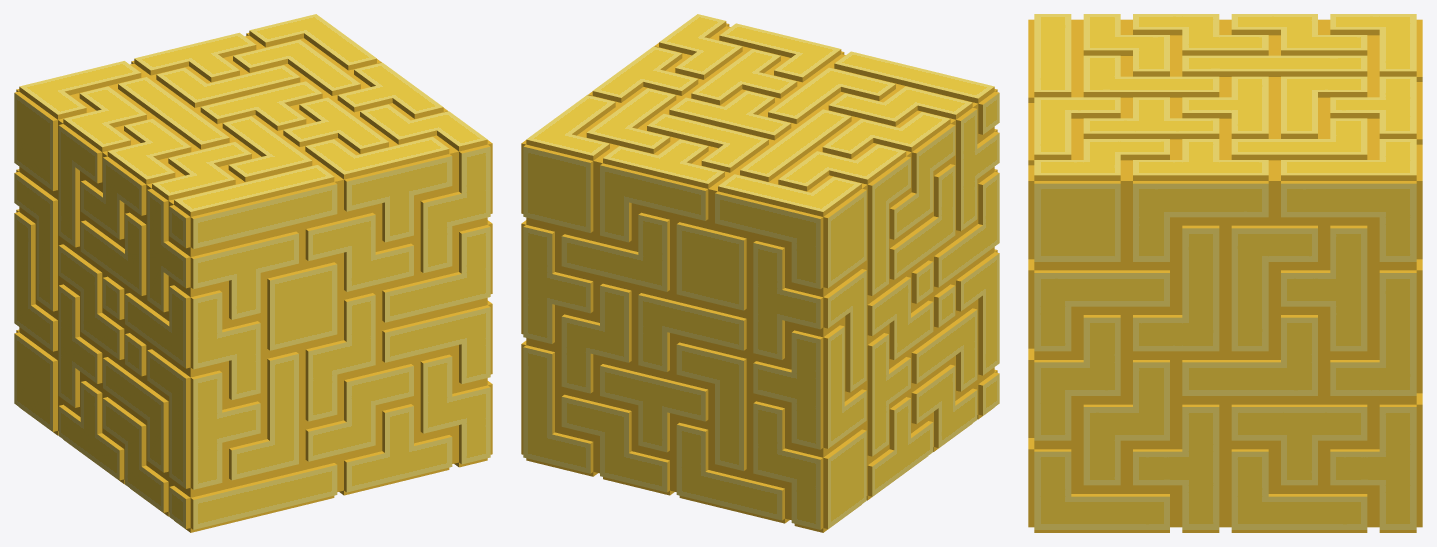
File: new_hexao.fezao.glb
The picture shows the model from 3 angles, left to right: view 1: azimuth 30°, elevation 25°; view 2: azimuth 150°, elevation 25°; view 3: azimuth 270°, elevation 25°; orthographic projection. The views are drawn at different scales.
Visible parts, largest first — view 1: NEW_HEXAO; view 2: NEW_HEXAO; view 3: NEW_HEXAO.
Part boxes in pixels (x1,y1,x2,y2): NEW_HEXAO: (14, 14, 492, 532); NEW_HEXAO: (521, 14, 999, 532); NEW_HEXAO: (1028, 14, 1422, 532).
Bounding box in the file's own units: 4 × 4 × 4.
1 material, 1 textured.
